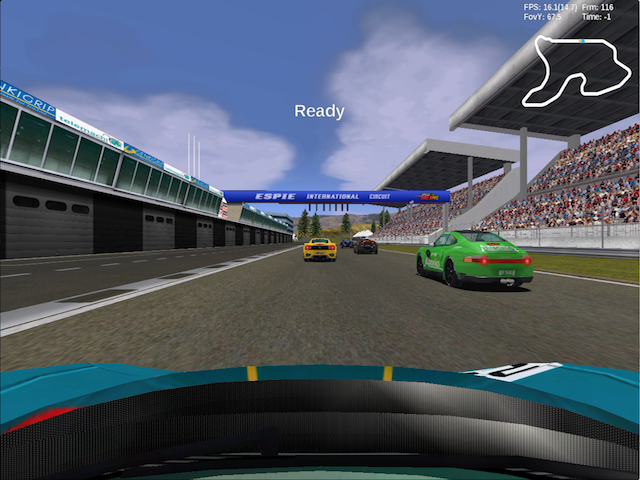Boxer96: (412, 230, 534, 291)
Cavallo360: (302, 238, 339, 263)
Spirit300: (352, 240, 378, 255)
